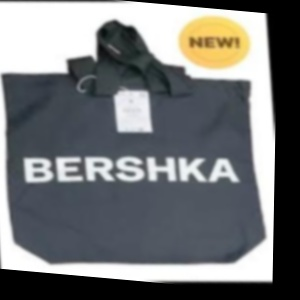bershka: (235, 80, 265, 219)
